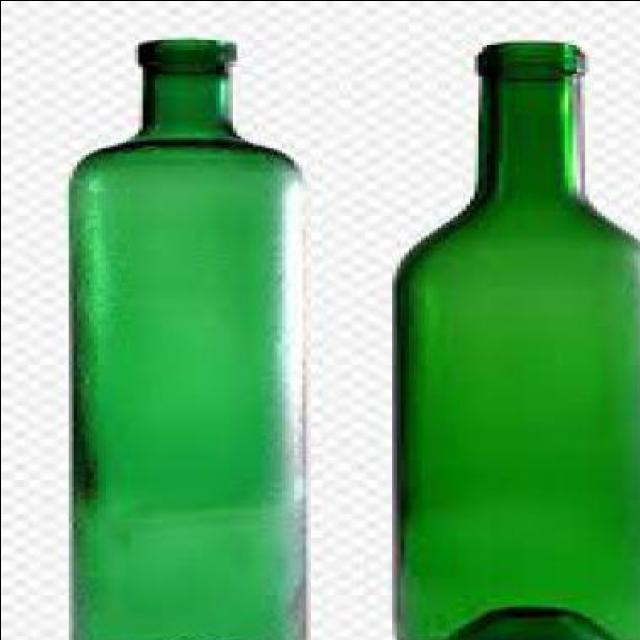kaca: (387, 39, 640, 640), (72, 35, 306, 640)
